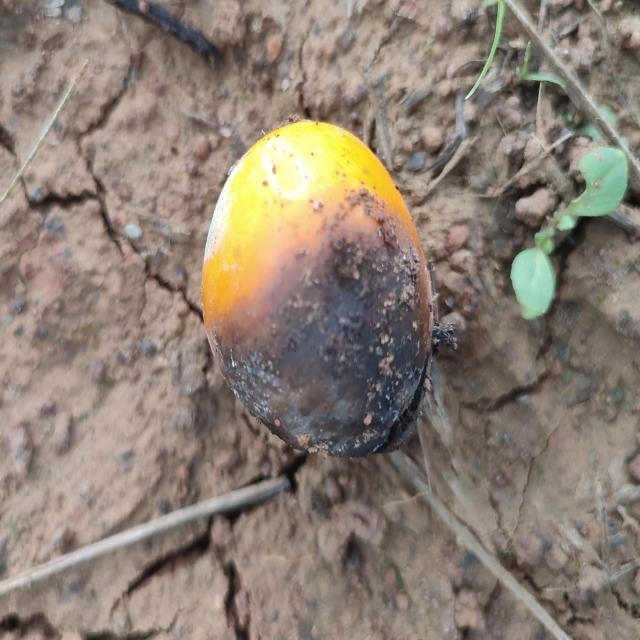damaged: (203, 121, 436, 457)
